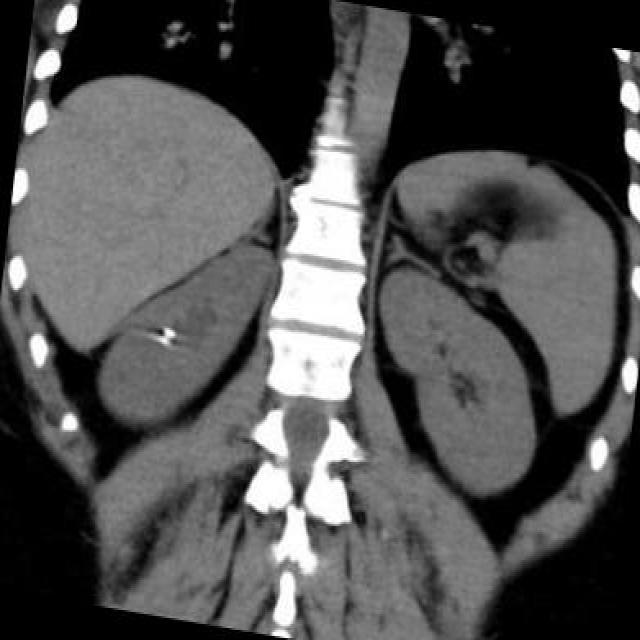Tas_Var: (160, 325, 177, 337), (155, 335, 172, 345)
